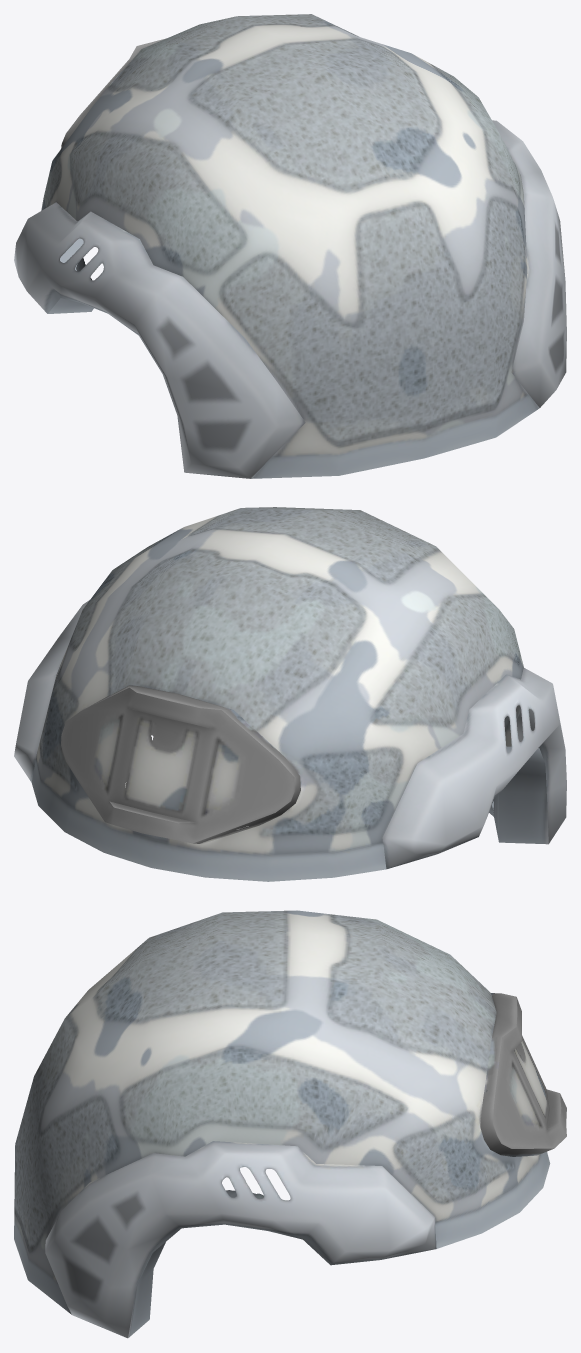
The model's file is IG_Helmat_Lv4-2_Snow.fbx.
3 renders of one model, top to bottom at view 1: azimuth 30°, elevation 25°; view 2: azimuth 150°, elevation 25°; view 3: azimuth 270°, elevation 25°, orthographic. The views are drawn at different scales.
Visible parts, largest first — view 1: Ballistic Armor Co. Bastion_Snow; view 2: Ballistic Armor Co. Bastion_Snow; view 3: Ballistic Armor Co. Bastion_Snow.
Part boxes in pixels (x1,y1,x2,y2): Ballistic Armor Co. Bastion_Snow: (14,14,566,478); Ballistic Armor Co. Bastion_Snow: (14,507,566,881); Ballistic Armor Co. Bastion_Snow: (14,910,566,1338).
Size of the model in its own units: 0.6277 by 0.423 by 0.6651.
